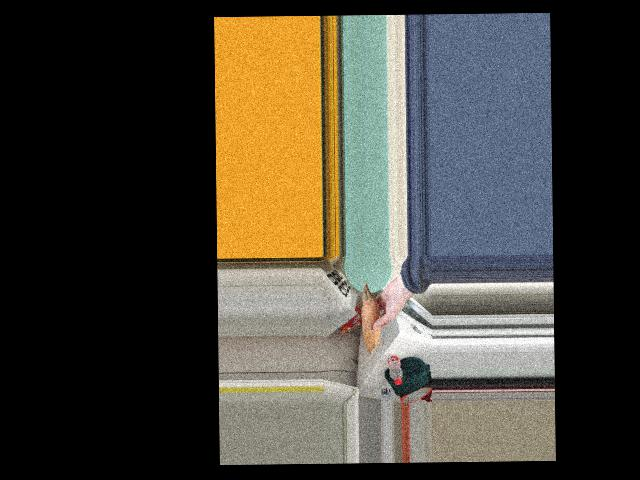sweet_potato: (361, 284, 385, 344)
